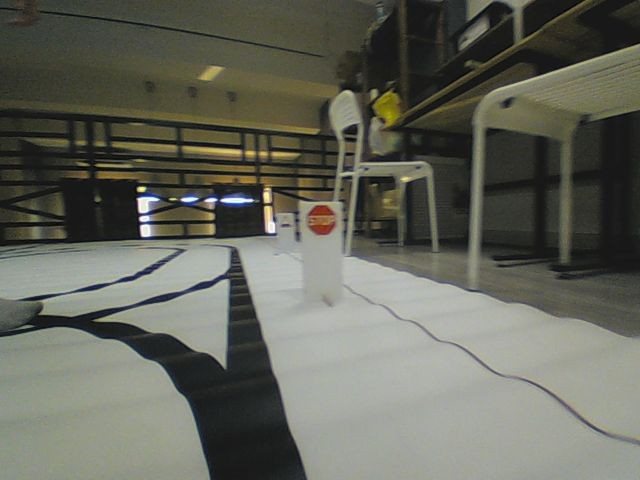Stop: (304, 203, 338, 237)
